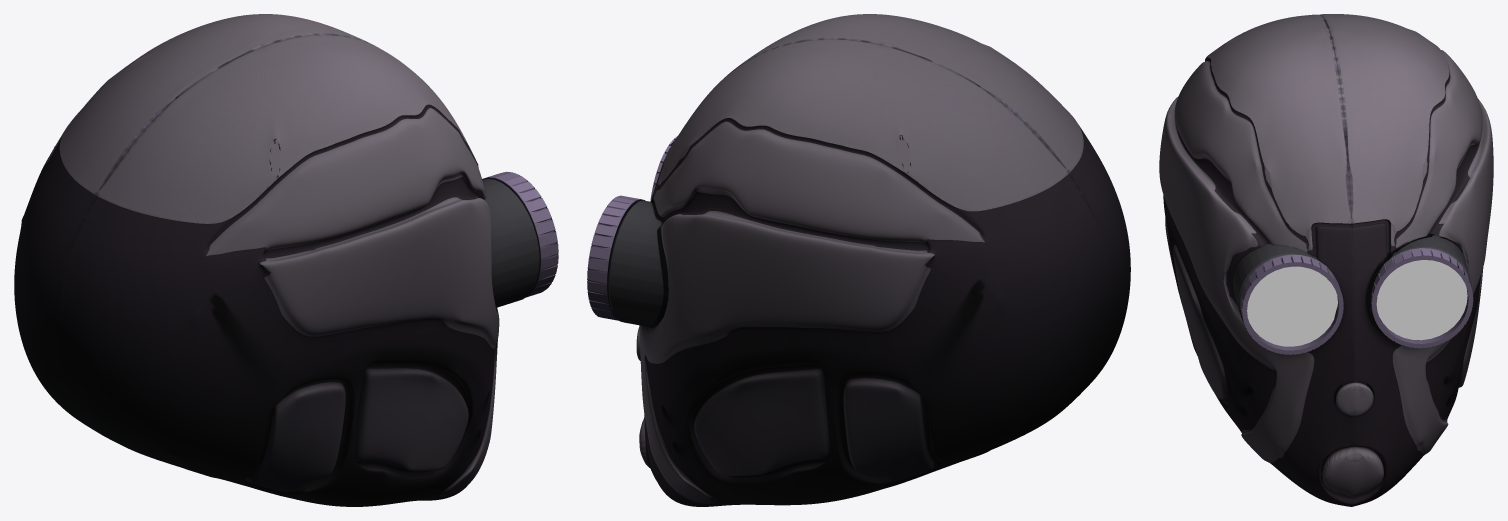
The model's file is sci_fi_helmet_2.glb.
3 views of the same model, side by side, from view 1: azimuth 30°, elevation 25°; view 2: azimuth 150°, elevation 25°; view 3: azimuth 270°, elevation 25° (orthographic). The views are drawn at different scales.
Visible parts, largest first — view 1: Sphere, Circle; view 2: Sphere, Circle; view 3: Sphere, Circle.
Part boxes in pixels (x1,y1,x2,y2): Sphere: (14, 14, 499, 506); Circle: (482, 171, 558, 307); Sphere: (636, 14, 1130, 506); Circle: (587, 136, 677, 327); Sphere: (1159, 14, 1493, 506); Circle: (1232, 233, 1473, 354).
Bounding box in the file's own units: 2.19 × 2.24 × 1.69.
Materials: 5 (4 with a texture image).
